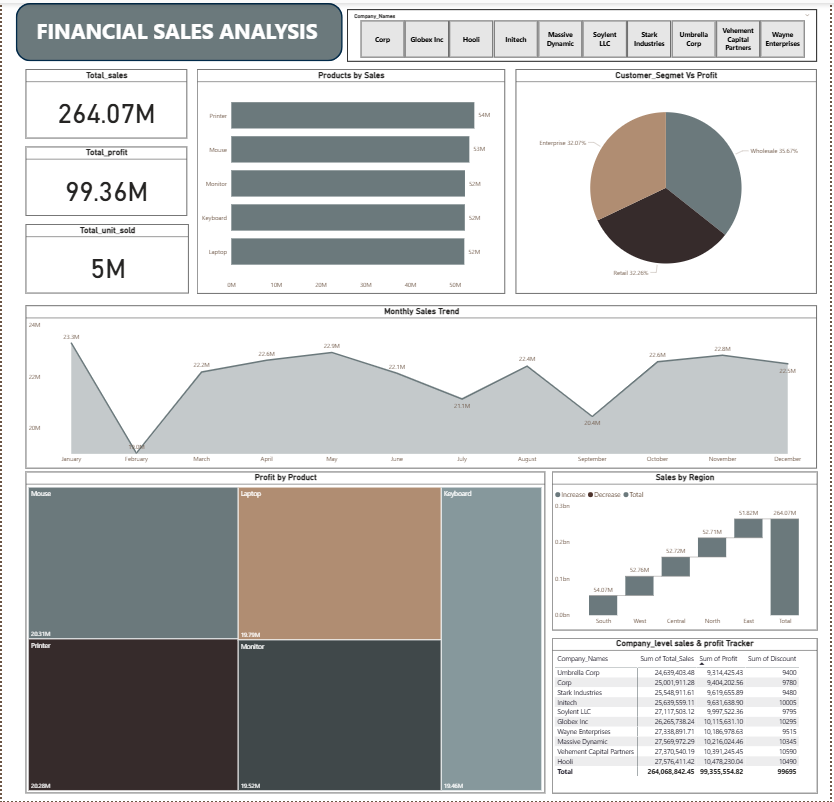

Layout of this report page (visuals, bound fields, positions):
{"tool":"powerbi","page":{"name":"Page 1","canvas":[1680,1620],"ordinal":0},"visuals":[{"type":"waterfallChart","title":"Sales by Region","fields":{"Category":["Financial_sales_dataset 1.Region"],"Y":["Sum(Financial_sales_dataset 1.Total_Sales)"]},"box":[1115,951.7,538.3,321.7],"z":0},{"type":"clusteredBarChart","title":"Products by Sales","fields":{"Category":["Financial_sales_dataset 1.Product_Name"],"Y":["Sum(Financial_sales_dataset 1.Total_Sales)"]},"box":[395,135,625,455],"z":1000},{"type":"lineChart","title":"Monthly Sales Trend","fields":{"Category":["Financial_sales_dataset 1.Date.Variation.Date Hierarchy.Month"],"Y":["Sum(Financial_sales_dataset 1.Total_Sales)"]},"box":[47.5,612.5,1605,330],"z":2000},{"type":"pieChart","title":"Customer_Segmet Vs Profit","fields":{"Category":["Financial_sales_dataset 1.Customer_Segement"],"Y":["Sum(Financial_sales_dataset 1.Profit)"]},"box":[1042.5,135,610,455],"z":3000},{"type":"treemap","title":"Profit by Product","fields":{"Group":["Financial_sales_dataset 1.Product_Name"],"Values":["Sum(Financial_sales_dataset 1.Profit)"]},"box":[48.3,951.7,1053.3,651.7],"z":4000},{"type":"card","title":"Total_sales","fields":{"Values":["Sum(Financial_sales_dataset 1.Total_Sales)"]},"box":[47.5,135,327.5,140],"z":5000},{"type":"card","title":"Total_profit","fields":{"Values":["Sum(Financial_sales_dataset 1.Profit)"]},"box":[47.5,292.5,327.5,140],"z":6000},{"type":"card","title":"Total_unit_sold","fields":{"Values":["Sum(Financial_sales_dataset 1.Units_Sold)"]},"box":[47.5,450,330,140],"z":7000},{"type":"shape","box":[28.3,0,663.3,118.3],"z":8000},{"type":"pivotTable","title":"Company_level sales & profit Tracker","fields":{"Rows":["Financial_sales_dataset 1.Company_Names"],"Values":["Sum(Financial_sales_dataset 1.Total_Sales)","Sum(Financial_sales_dataset 1.Profit)","Sum(Financial_sales_dataset 1.Discount)"]},"box":[1115,1288.3,538.3,315],"z":9000},{"type":"textbox","box":[60,21.7,588.3,75],"z":10000},{"type":"slicer","fields":{"Values":["Financial_sales_dataset 1.Company_Names"]},"box":[700,11.7,953.3,106.7],"z":11000}]}

Visuals, with their boxes in screenshot pixels (x1, y1, x2, y2), scaled from the page's 1680x1620 canvas onto the 834x802 screenshot:
"Sales by Region" waterfallChart: [554,471,821,630]
"Products by Sales" clusteredBarChart: [196,67,506,292]
"Monthly Sales Trend" lineChart: [24,303,820,467]
"Customer_Segmet Vs Profit" pieChart: [518,67,820,292]
"Profit by Product" treemap: [24,471,547,794]
"Total_sales" card: [24,67,186,136]
"Total_profit" card: [24,145,186,214]
"Total_unit_sold" card: [24,223,187,292]
shape: [14,0,343,59]
"Company_level sales & profit Tracker" pivotTable: [554,638,821,794]
textbox: [30,11,322,48]
slicer - Financial_sales_dataset 1.Company_Names: [348,6,821,59]
